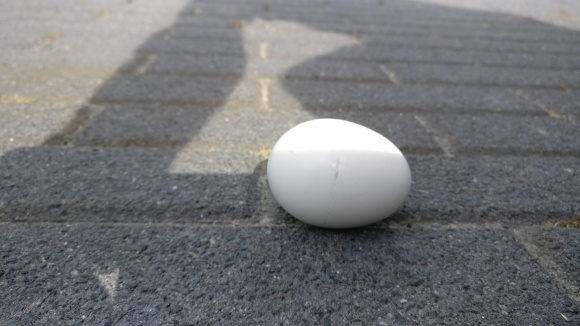egg: (267, 117, 412, 227)
